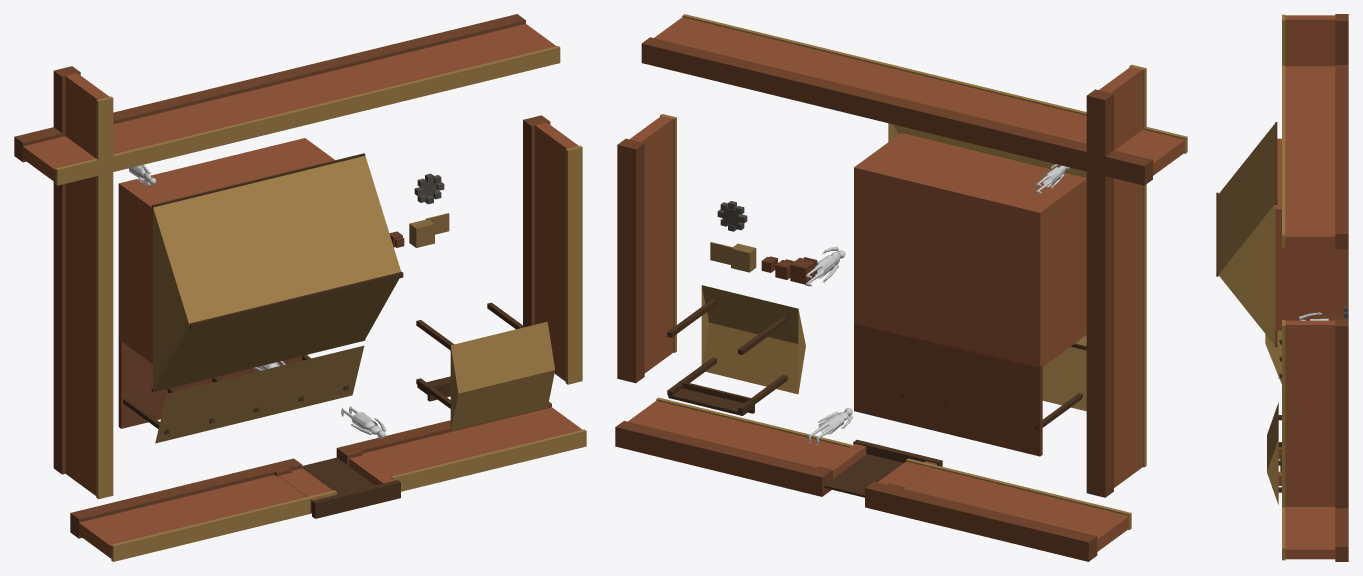
Rendered from CH01_POPULATED_LOW_4.obj.
3 renders of one model, left to right at view 1: azimuth 30°, elevation 25°; view 2: azimuth 150°, elevation 25°; view 3: azimuth 270°, elevation 25°, orthographic. The views are drawn at different scales.
Bounding box in the file's own units: 14.2 × 11.95 × 3.96.
